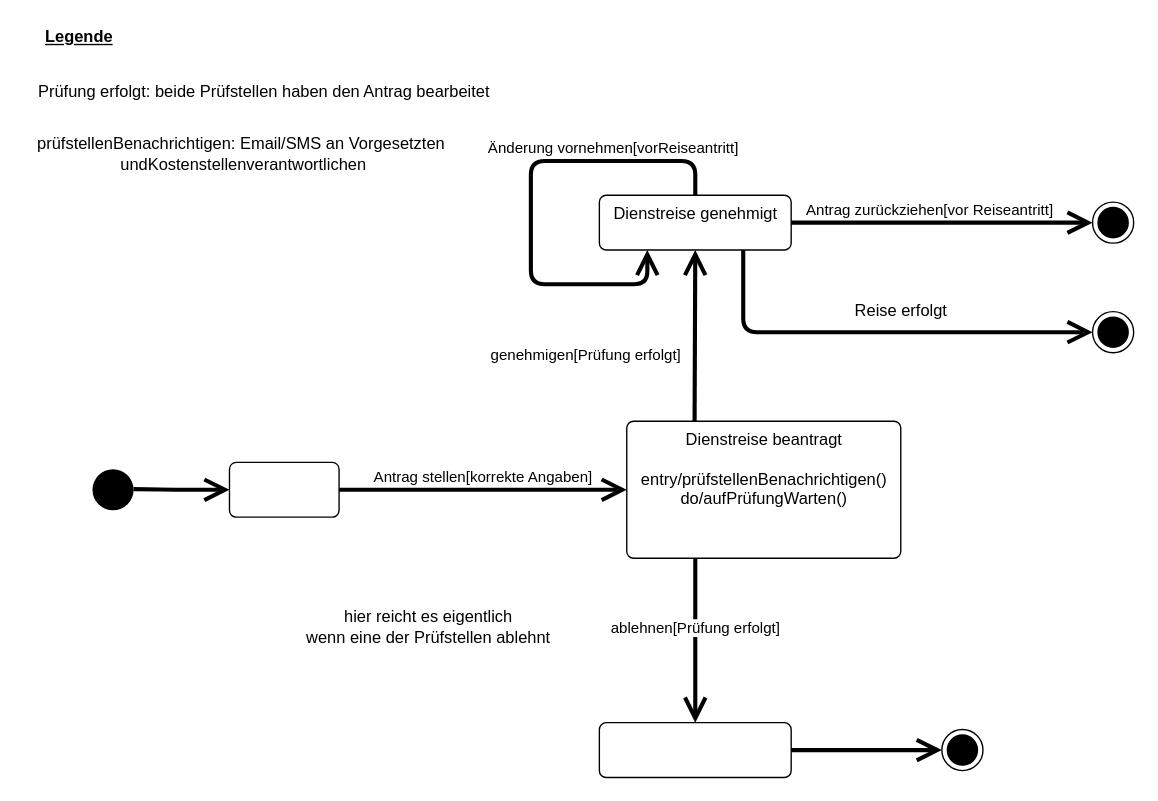
Image size: 1158x801. Some labels were removed from this diagram. The box of each missing label's shape, as (x1, y1, x2, y2) in pixels:
Dienstreise abgelehnt: (598, 721, 791, 777)
kein Antrag: (228, 461, 339, 517)
